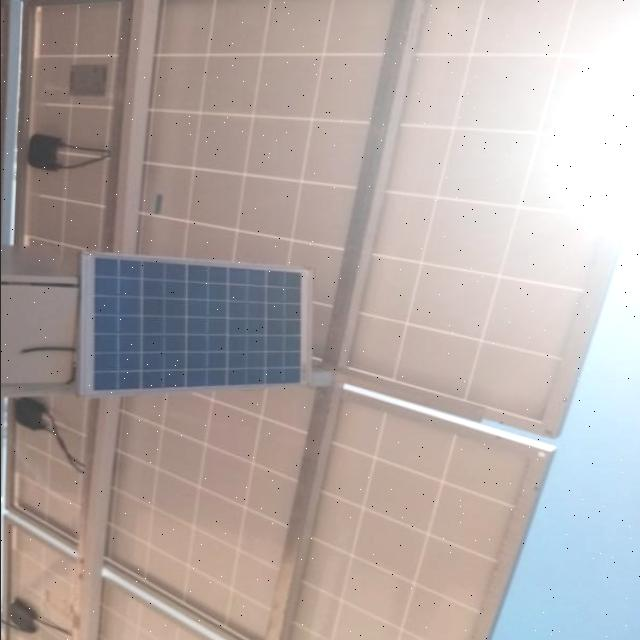Normal Solar Panel: (82, 253, 312, 397)
